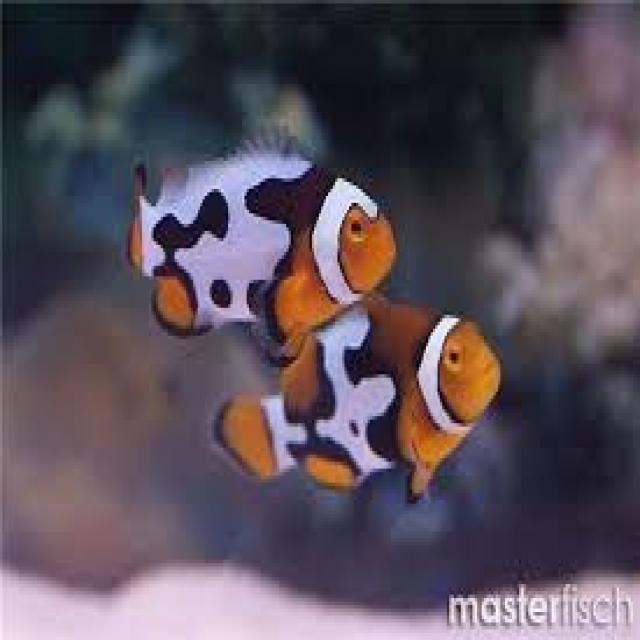ClownFish: (207, 303, 499, 504), (126, 146, 394, 353)
